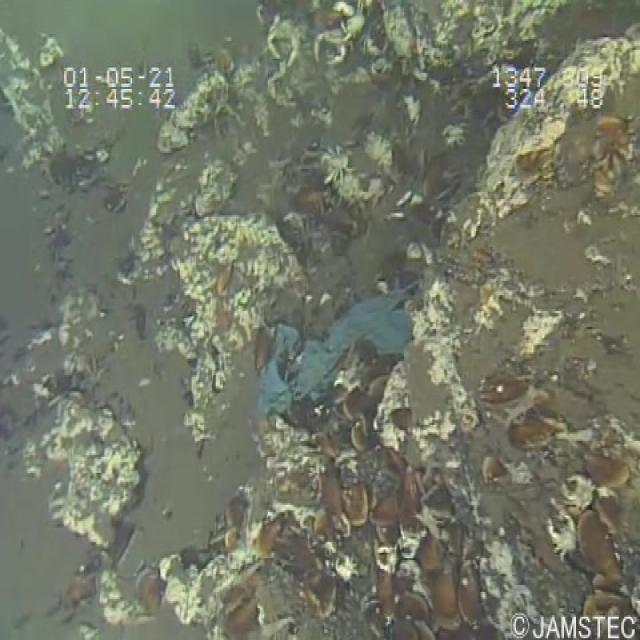plastic: (250, 277, 426, 427)
